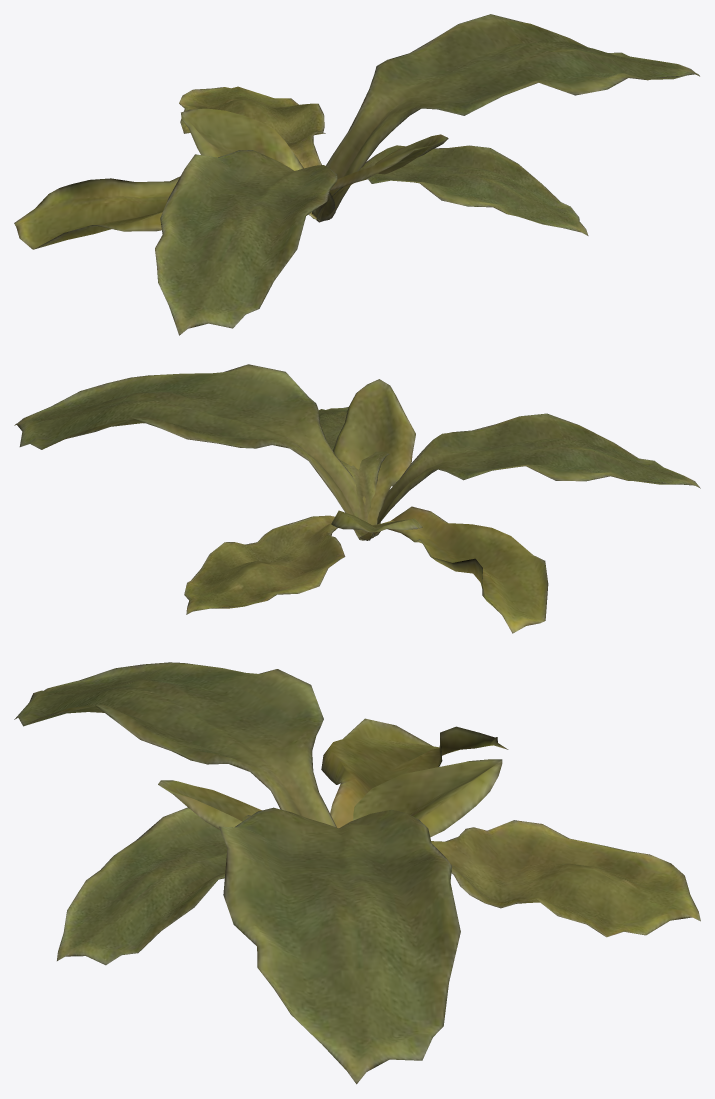
File: crystalline_iceplant_h.gltf
3 views of the same model, one above another, from view 1: azimuth 30°, elevation 25°; view 2: azimuth 150°, elevation 25°; view 3: azimuth 270°, elevation 25° (orthographic). The views are drawn at different scales.
Visible parts, largest first — view 1: crystalline_iceplant_e_LOD0; view 2: crystalline_iceplant_e_LOD0; view 3: crystalline_iceplant_e_LOD0.
Boxes of the visible parts, box(x1,y1,x2,y2) form: crystalline_iceplant_e_LOD0: box(14, 14, 699, 335); crystalline_iceplant_e_LOD0: box(14, 364, 700, 633); crystalline_iceplant_e_LOD0: box(14, 662, 700, 1084).
Size of the model in its own units: 0.1533 by 0.0285 by 0.1122.
1 material, 1 textured.
